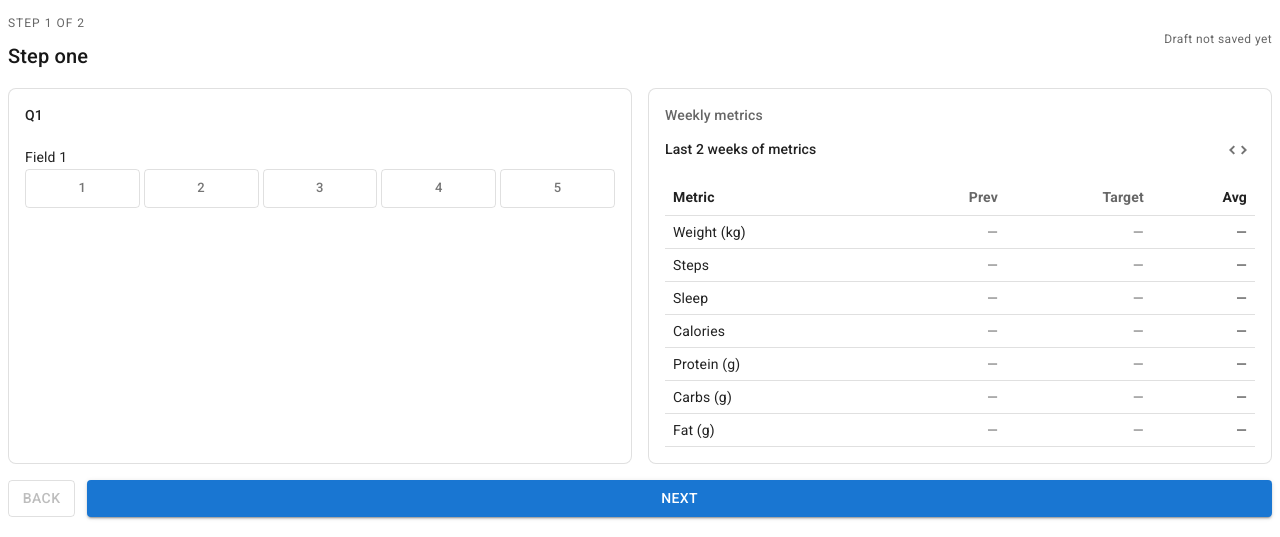
Test case: CheckInForm › template mode renders cards in template order and clears hidden conditional fields
Expected: the text "Step 1 of 2" is shown, [8,16,85,30]
Click the button "3".
click(320, 188)  # box [263,169,377,208]
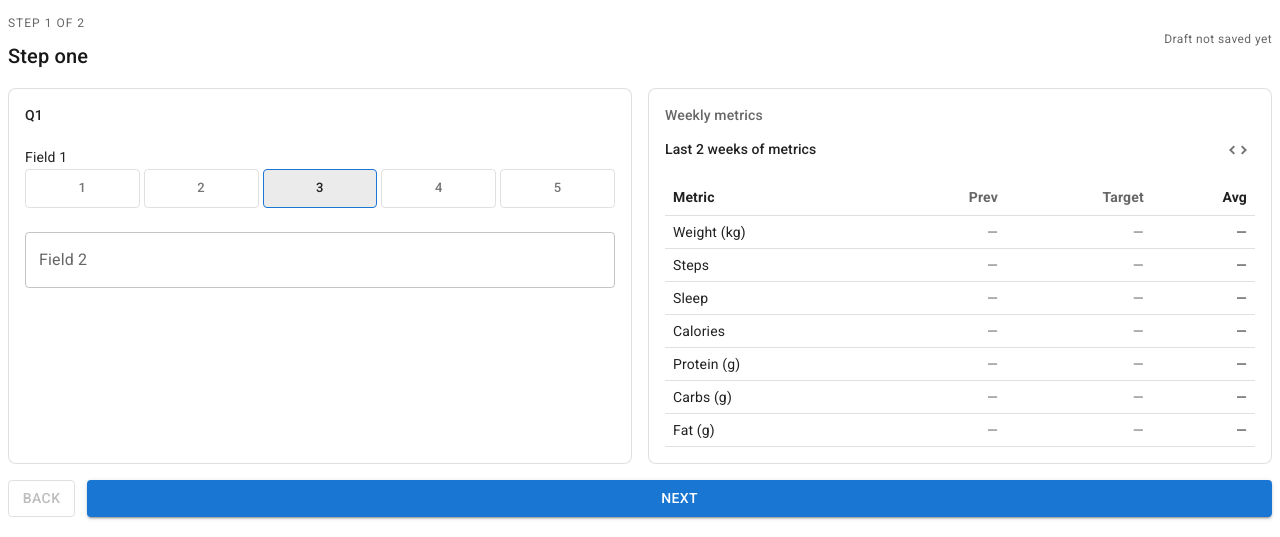
Type "temp" into the field labelled "Field 2".
click(320, 260); type("temp")  # box [25,232,615,288]
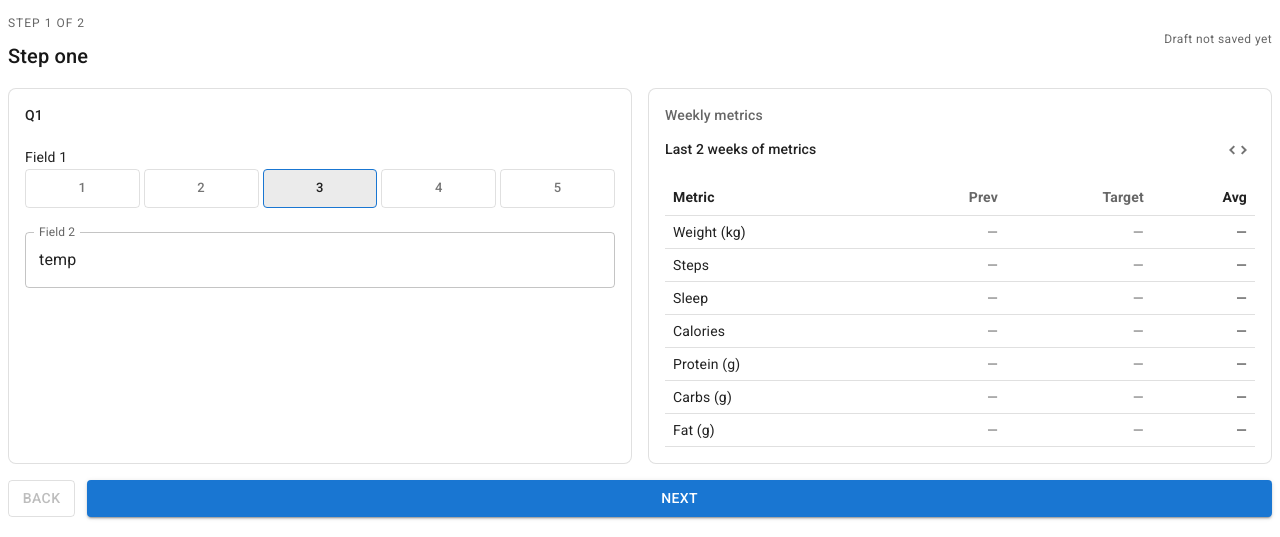
Click the button "1".
click(82, 188)  # box [25,169,140,208]
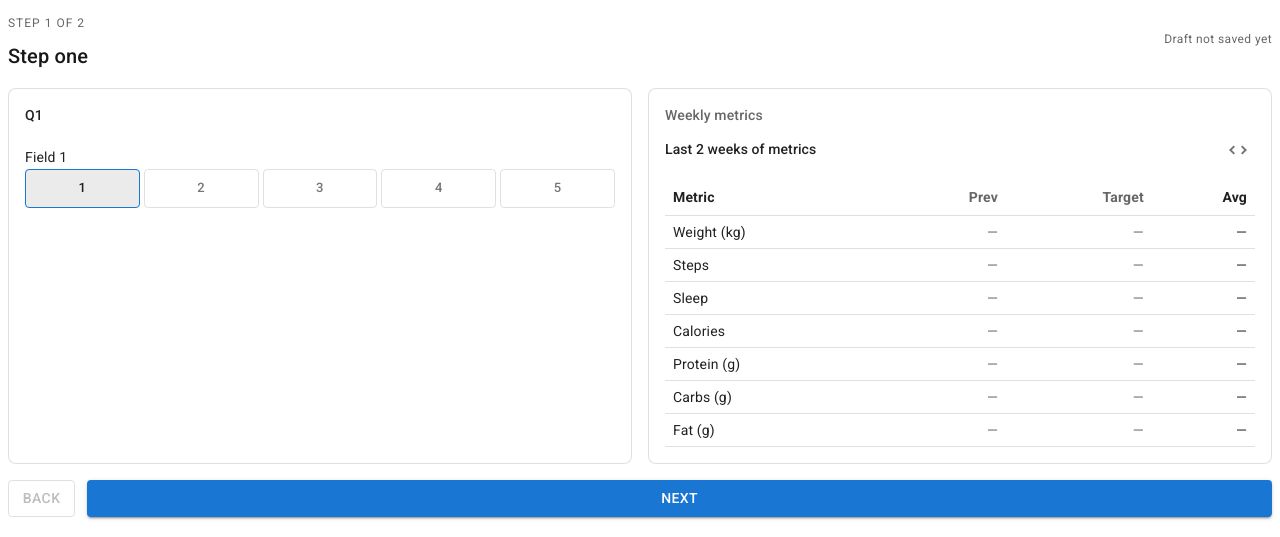
Now the label labelled "Field 2" is gone
Click the button "Next".
click(680, 498)  # box [87,480,1272,516]
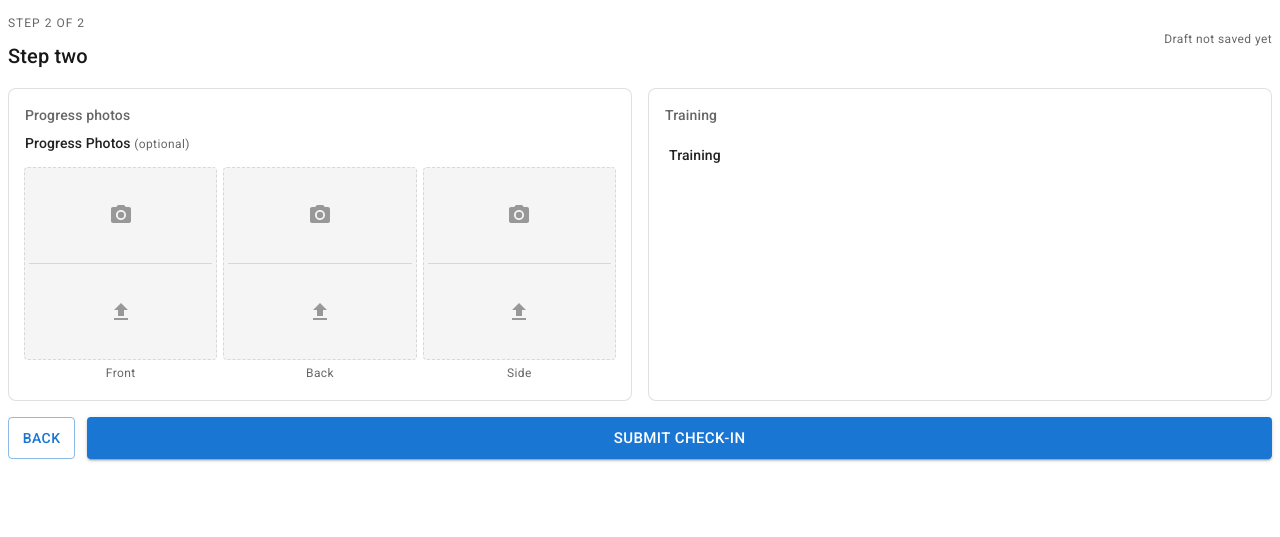
Now the text "Step 2 of 2" is shown, box [8,16,85,30]
